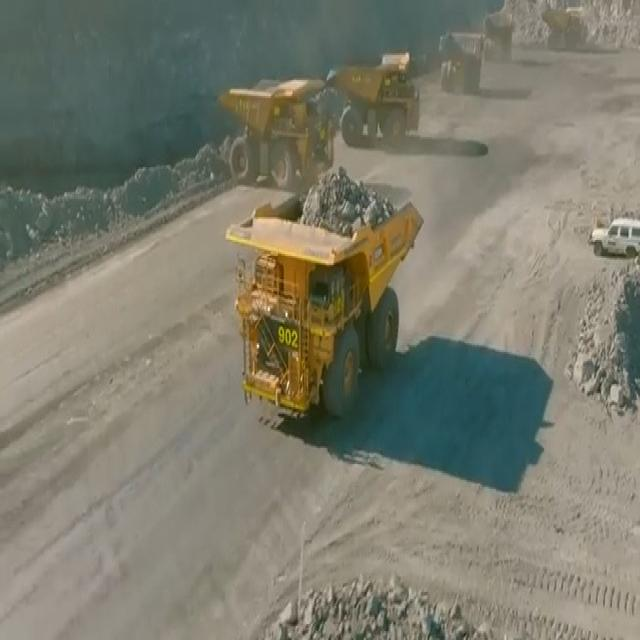dump_truck: (232, 174, 424, 426), (222, 77, 328, 182), (330, 50, 418, 152), (431, 23, 482, 97), (538, 0, 584, 55), (482, 8, 516, 58)
light_vehicle: (591, 210, 640, 260)
